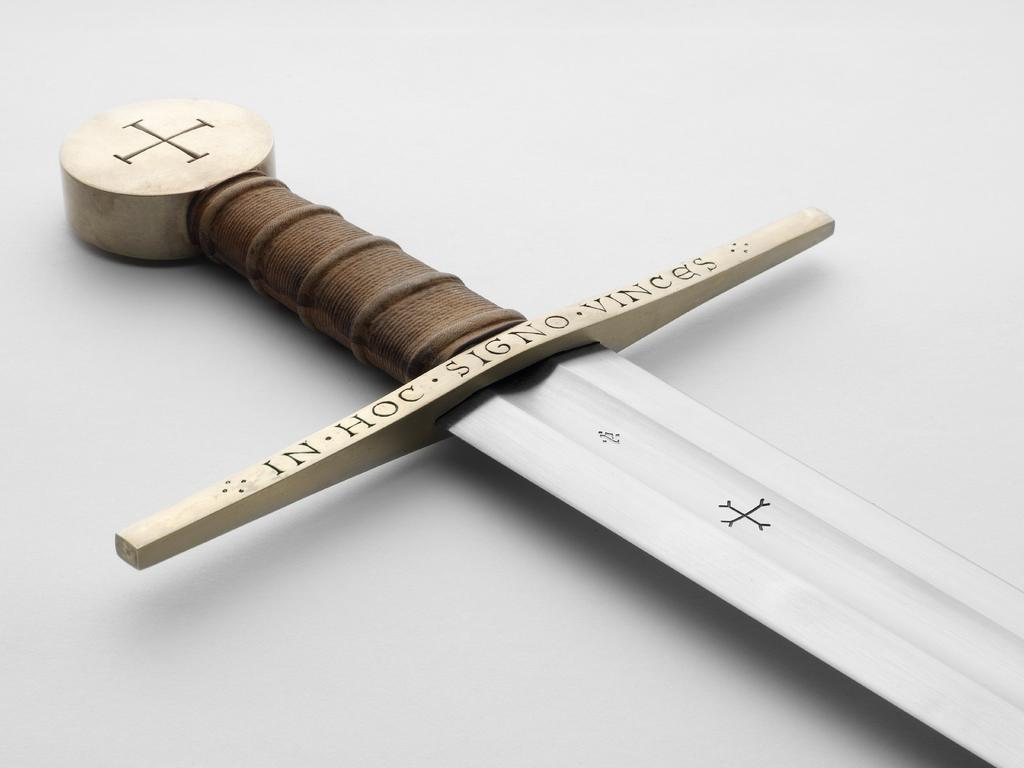Sword: (61, 97, 1023, 767)
